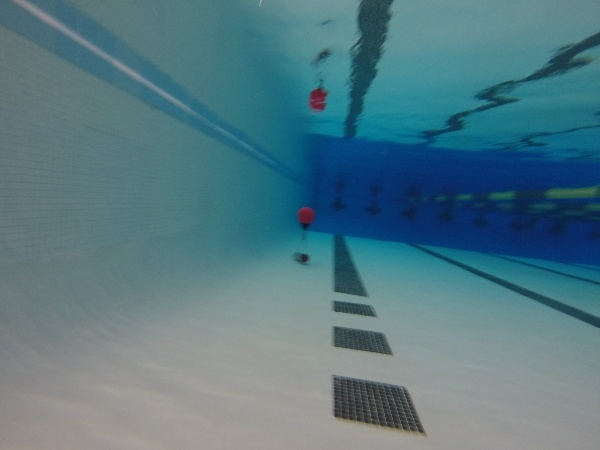buoy_red: (296, 205, 316, 230)
